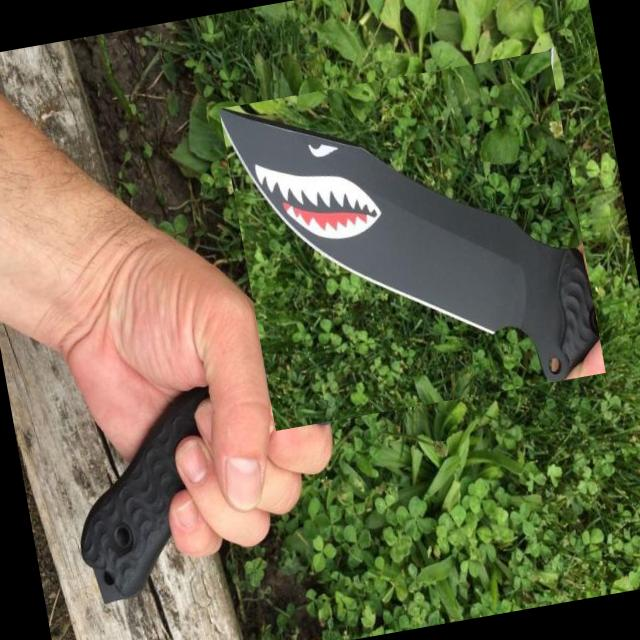Knife: (220, 109, 600, 381), (80, 387, 208, 601)
